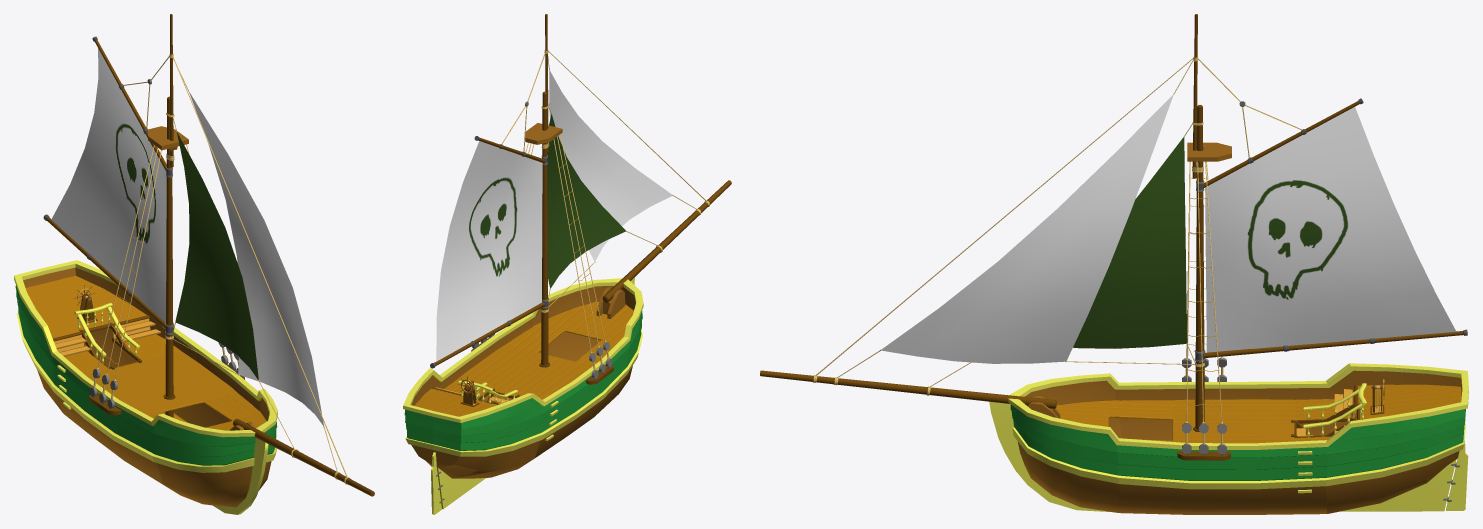
File: silhouette-ship.glb
3 renders of one model, left to right at view 1: azimuth 30°, elevation 25°; view 2: azimuth 150°, elevation 25°; view 3: azimuth 270°, elevation 25°, orthographic. The views are drawn at different scales.
Parts seen in each view (by area): view 1: sails_Sail main sketch_0.001, Decks, Main hull, Decks_Boat sketch mat_0.001, Main hull_Boat sketch mat_0.029, Main hull_Boat sketch mat_0.028, Main hull_Boat sketch mat_0.117, Main hull_Boat sketch mat_0.010, Main hull_Boat sketch mat_0.021, Main hull_Boat sketch mat_0.017, Main hull_Boat sketch mat_0.012, Main hull_Boat sketch mat_0.032 (+10 smaller); view 2: sails_Sail main sketch_0.001, Decks, Main hull_Boat sketch mat_0.010, Main hull, Main hull_Boat sketch mat_0.024, Main hull_Boat sketch mat_0.018, Main hull_Boat sketch mat_0.117, Main hull_Boat sketch mat_0.017, Main hull_Boat sketch mat_0.032, Main hull_Boat sketch mat_0.021, Main hull_Boat sketch mat_0.023, Decks_Boat sketch mat_0.001 (+10 smaller); view 3: sails, Main hull_Boat sketch mat_0.117, Main hull_Boat sketch mat_0.012, Decks, Main hull, Main hull_Boat sketch mat_0.011, Main hull_Boat sketch mat_0.026, Main hull_Boat sketch mat_0.021, Main hull_Boat sketch mat_0.010, Main hull_Boat sketch mat_0.025, Main hull_Boat sketch mat_0.078, Decks_Boat sketch mat_0.001 (+9 smaller).
Part boxes in pixels (x1,y1,x2,y2): sails_Sail main sketch_0.001: [51, 48, 323, 425]; Decks: [64, 334, 266, 430]; Main hull: [51, 351, 175, 492]; Decks_Boat sketch mat_0.001: [25, 276, 146, 338]; Main hull_Boat sketch mat_0.029: [153, 420, 255, 465]; Main hull_Boat sketch mat_0.028: [156, 463, 252, 507]; Main hull_Boat sketch mat_0.117: [163, 327, 260, 427]; Main hull_Boat sketch mat_0.010: [14, 275, 62, 412]; Main hull_Boat sketch mat_0.021: [172, 55, 374, 496]; Main hull_Boat sketch mat_0.017: [163, 96, 175, 417]; Main hull_Boat sketch mat_0.012: [75, 260, 165, 366]; Main hull_Boat sketch mat_0.032: [89, 145, 161, 415]; sails_Sail main sketch_0.001: [436, 70, 672, 361]; Decks: [444, 301, 633, 399]; Main hull_Boat sketch mat_0.010: [454, 393, 545, 476]; Main hull: [535, 336, 630, 457]; Main hull_Boat sketch mat_0.024: [533, 286, 622, 361]; Main hull_Boat sketch mat_0.018: [431, 411, 477, 478]; Main hull_Boat sketch mat_0.117: [440, 313, 534, 401]; Main hull_Boat sketch mat_0.017: [539, 91, 549, 367]; Main hull_Boat sketch mat_0.032: [553, 134, 613, 384]; Main hull_Boat sketch mat_0.021: [548, 51, 731, 302]; Main hull_Boat sketch mat_0.023: [403, 405, 435, 466]; Decks_Boat sketch mat_0.001: [414, 388, 498, 416]; sails: [881, 94, 1456, 363]; Main hull_Boat sketch mat_0.117: [1117, 438, 1327, 514]; Main hull_Boat sketch mat_0.012: [1326, 402, 1467, 513]; Decks: [1056, 399, 1351, 443]; Main hull: [1114, 381, 1329, 440]; Main hull_Boat sketch mat_0.011: [989, 398, 1118, 512]; Main hull_Boat sketch mat_0.026: [1010, 404, 1118, 475]; Main hull_Boat sketch mat_0.021: [760, 58, 1193, 408]; Main hull_Boat sketch mat_0.010: [1318, 363, 1467, 435]; Main hull_Boat sketch mat_0.025: [1017, 441, 1119, 512]; Main hull_Boat sketch mat_0.078: [1177, 161, 1230, 460]; Decks_Boat sketch mat_0.001: [1357, 384, 1461, 419].
Bounding box in the file's own units: 9.38 × 29.93 × 38.7.
Materials: 2 (2 with a texture image).
